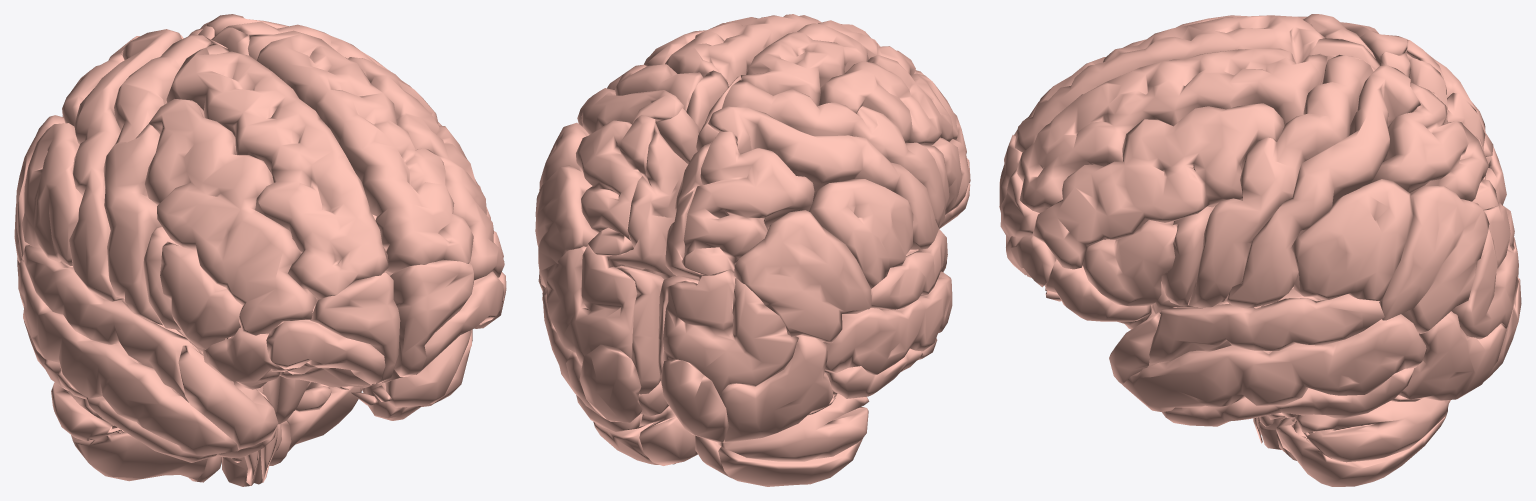
The model's file is brain.glb.
The picture shows the model from 3 angles, left to right: view 1: azimuth 30°, elevation 25°; view 2: azimuth 150°, elevation 25°; view 3: azimuth 270°, elevation 25°; orthographic projection. The views are drawn at different scales.
Visible parts, largest first — view 1: Allen_olfactory_bulb_L, Allen_olfactory_bulb_R; view 2: Allen_olfactory_bulb_L, Allen_olfactory_bulb_R; view 3: Allen_olfactory_bulb_R, Allen_olfactory_bulb_L.
Boxes of the visible parts, bbox=[...] form: Allen_olfactory_bulb_L: bbox=[14, 29, 400, 486]; Allen_olfactory_bulb_R: bbox=[189, 14, 506, 484]; Allen_olfactory_bulb_L: bbox=[658, 20, 970, 486]; Allen_olfactory_bulb_R: bbox=[535, 14, 821, 465]; Allen_olfactory_bulb_R: bbox=[1000, 48, 1521, 486]; Allen_olfactory_bulb_L: bbox=[999, 14, 1518, 438].
Bounding box in the file's own units: 0.1357 × 0.1456 × 0.1665.
